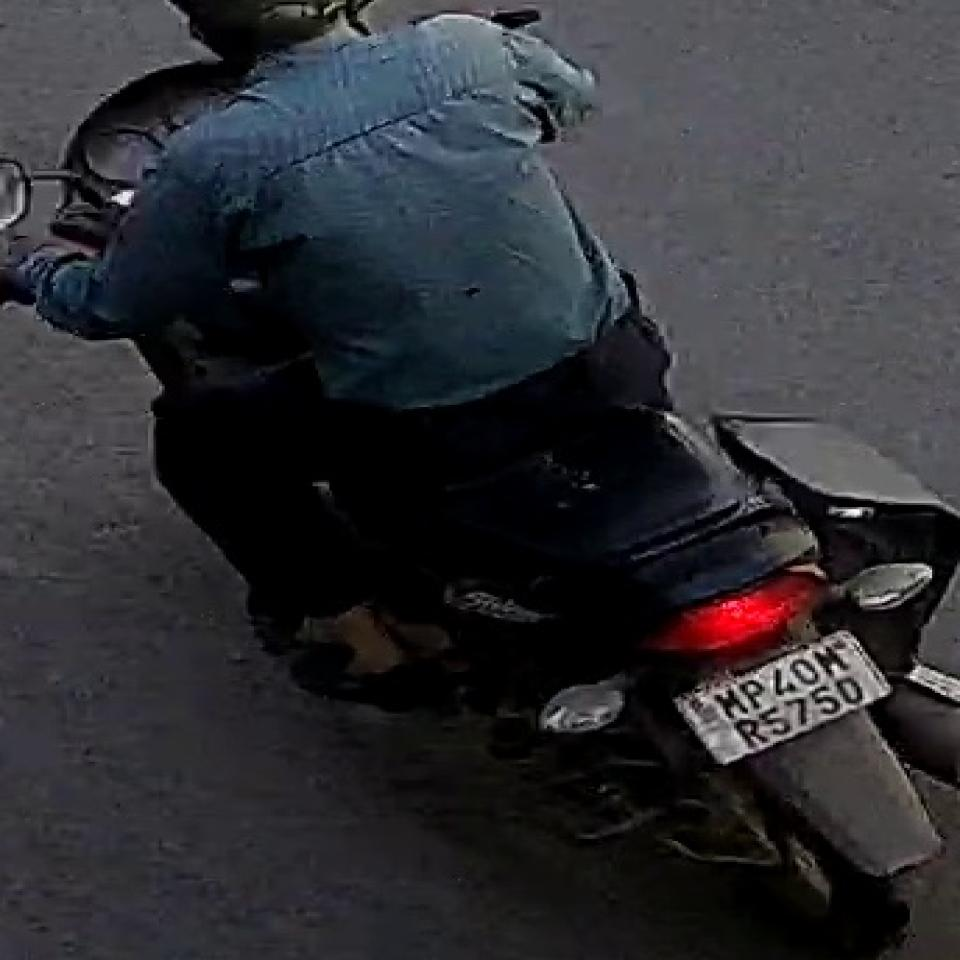tail_light: (660, 574, 810, 658)
